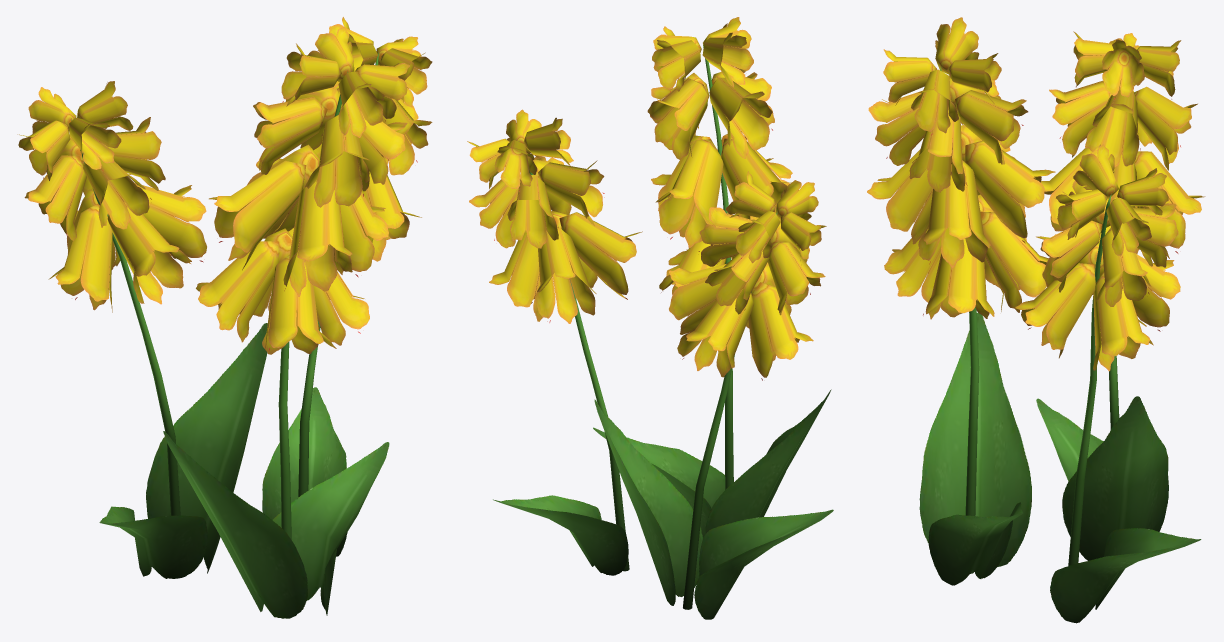
The model's file is Flower_4_Group.glb.
3 views of the same model, side by side, from view 1: azimuth 30°, elevation 25°; view 2: azimuth 150°, elevation 25°; view 3: azimuth 270°, elevation 25° (orthographic). The views are drawn at different scales.
Parts seen in each view (by area): view 1: Flower_4_Group; view 2: Flower_4_Group; view 3: Flower_4_Group.
Part boxes in pixels (x1=…): Flower_4_Group: x1=17, y1=17, x2=432, y2=618; Flower_4_Group: x1=467, y1=17, x2=833, y2=619; Flower_4_Group: x1=867, y1=17, x2=1205, y2=623.
Size of the model in its own units: 1.78 by 2.49 by 1.37.
2 materials, 2 textured.
